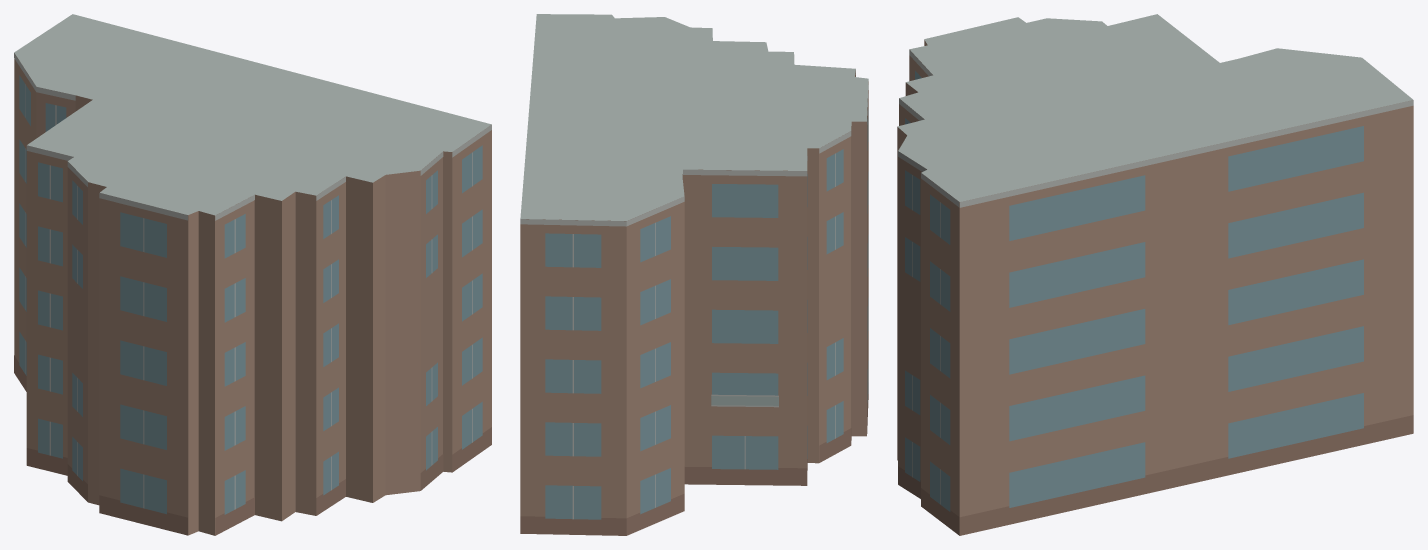
The model's file is survey-upis-32641385.glb.
3 views of the same model, side by side, from view 1: azimuth 30°, elevation 25°; view 2: azimuth 150°, elevation 25°; view 3: azimuth 270°, elevation 25° (orthographic). The views are drawn at different scales.
Parts seen in each view (by area): view 1: survey-upis-32641385.tmp; view 2: survey-upis-32641385.tmp; view 3: survey-upis-32641385.tmp.
Part boxes in pixels (x1,y1,x2,y2): survey-upis-32641385.tmp: (14, 14, 491, 535); survey-upis-32641385.tmp: (520, 14, 868, 535); survey-upis-32641385.tmp: (897, 14, 1413, 535).
Bounding box in the file's own units: 17.24 × 14.25 × 19.99.
